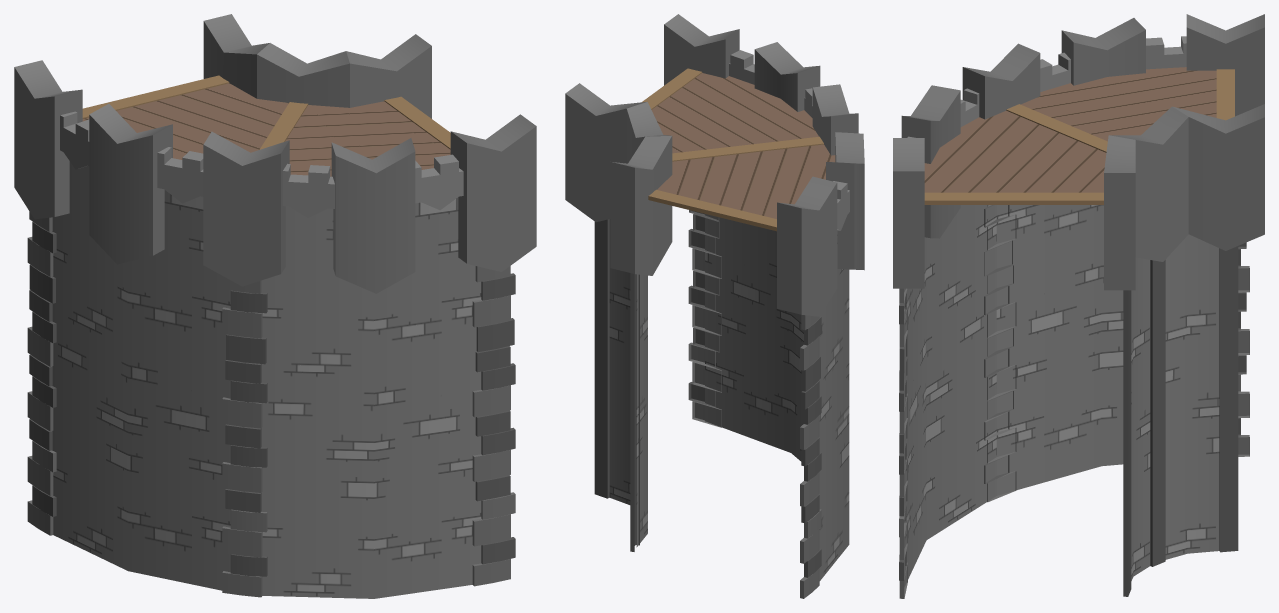
Rendered from Wall_Curve_02.fbx.
The picture shows the model from 3 angles, left to right: view 1: azimuth 30°, elevation 25°; view 2: azimuth 150°, elevation 25°; view 3: azimuth 270°, elevation 25°; orthographic projection. The views are drawn at different scales.
Parts seen in each view (by area): view 1: polySurface215; view 2: polySurface215; view 3: polySurface215.
Boxes of the visible parts, x1,y1,x2,y2 form: polySurface215: (14, 14, 536, 598); polySurface215: (565, 14, 864, 598); polySurface215: (893, 14, 1264, 598).
Size of the model in its own units: 10.39 by 13.35 by 10.27.
